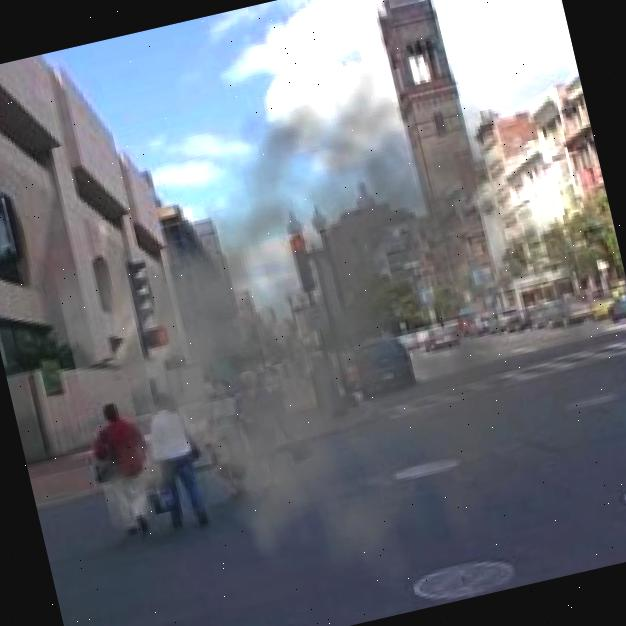smoke: (19, 14, 626, 626)
